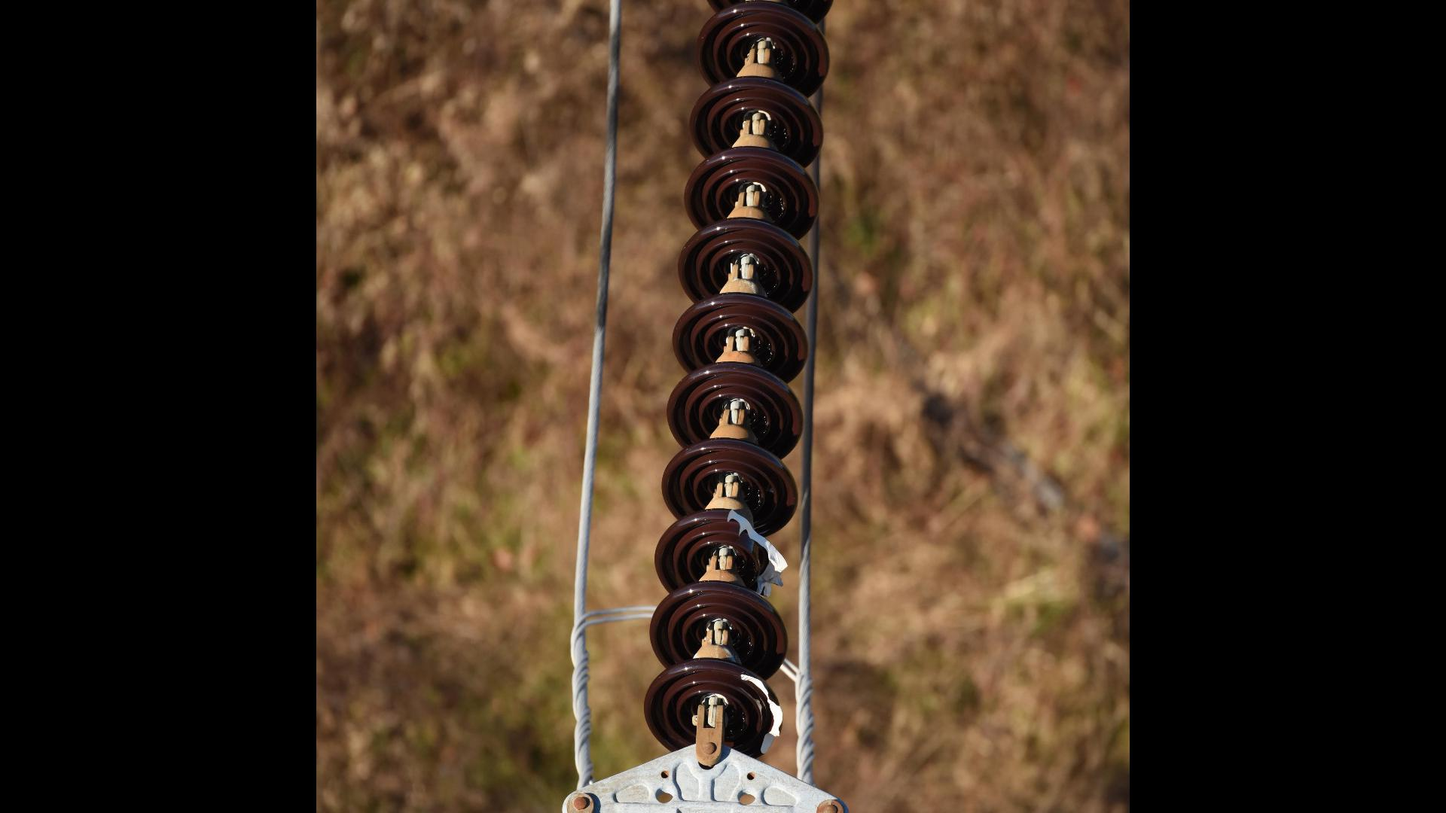insulator: (639, 1, 840, 757)
insulator_breakage: (718, 504, 792, 597), (737, 667, 787, 757)
